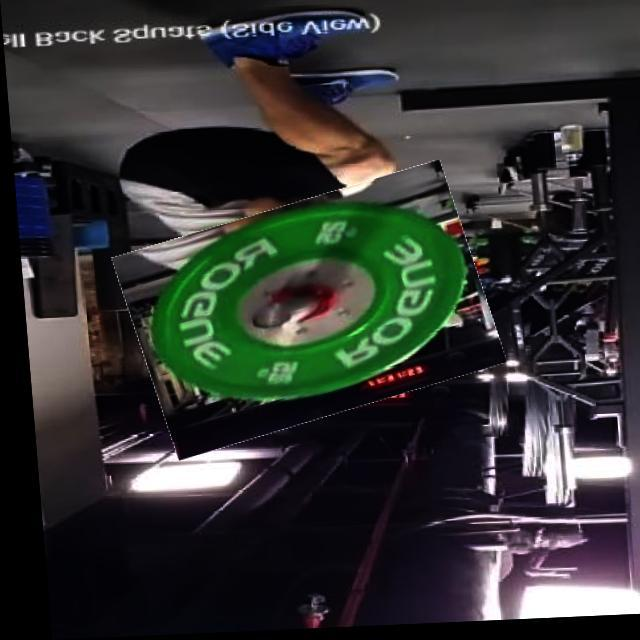barbell: (114, 183, 495, 445)
